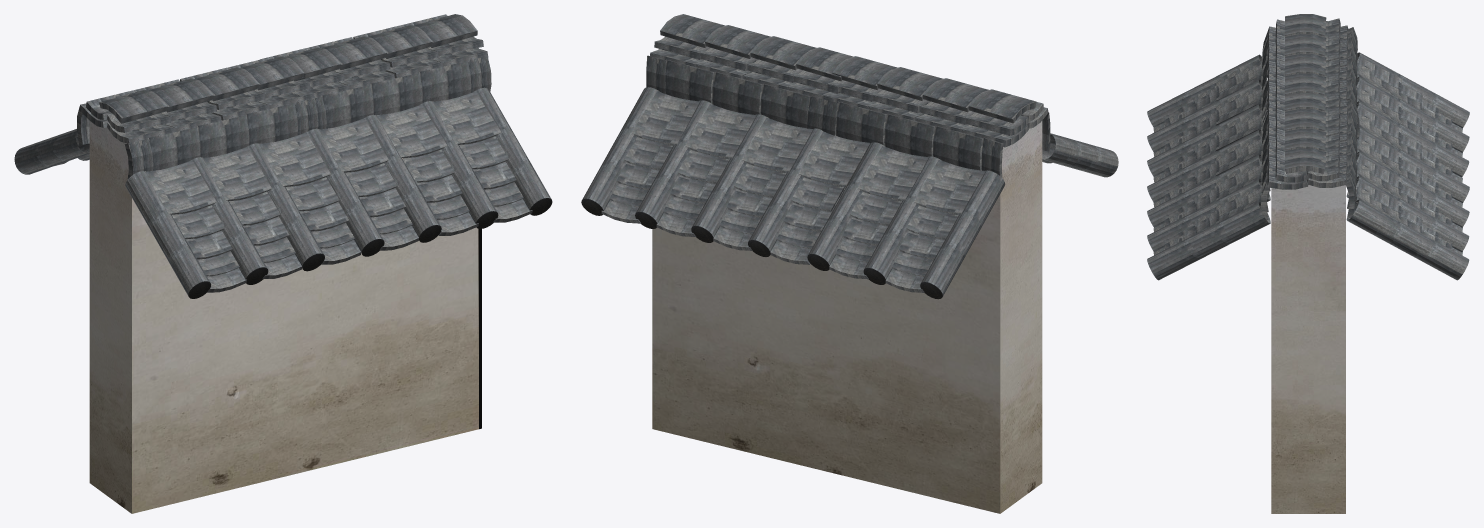
File: wall.fbx
The picture shows the model from 3 angles, left to right: view 1: azimuth 30°, elevation 25°; view 2: azimuth 150°, elevation 25°; view 3: azimuth 270°, elevation 25°; orthographic projection. The views are drawn at different scales.
Parts seen in each view (by area): view 1: wall; view 2: wall; view 3: wall.
Boxes of the visible parts, box(x1,y1,x2,y2) form: wall: box(14, 14, 552, 513); wall: box(581, 14, 1118, 513); wall: box(1147, 14, 1469, 513).
Size of the model in its own units: 576 by 596 by 499.
Materials: 3 (3 with a texture image).
